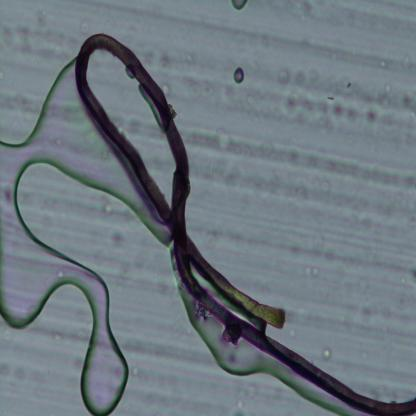Air bubble: (0, 59, 138, 413), (183, 301, 298, 404), (322, 345, 336, 364), (235, 66, 246, 84), (231, 0, 248, 11)
Background material: (279, 68, 390, 117), (252, 136, 309, 170), (21, 14, 66, 57), (199, 124, 242, 158), (317, 243, 342, 270), (394, 90, 416, 118), (292, 0, 312, 23), (106, 226, 125, 250), (152, 54, 171, 75), (410, 264, 416, 282)
Microfibre: (75, 33, 416, 415)
